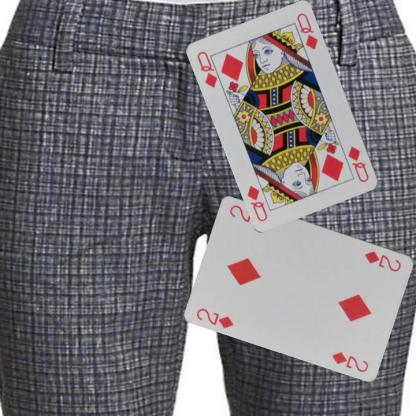2d: (362, 248, 403, 273), (194, 305, 235, 330)
Qd: (195, 48, 224, 90), (346, 143, 370, 184)
